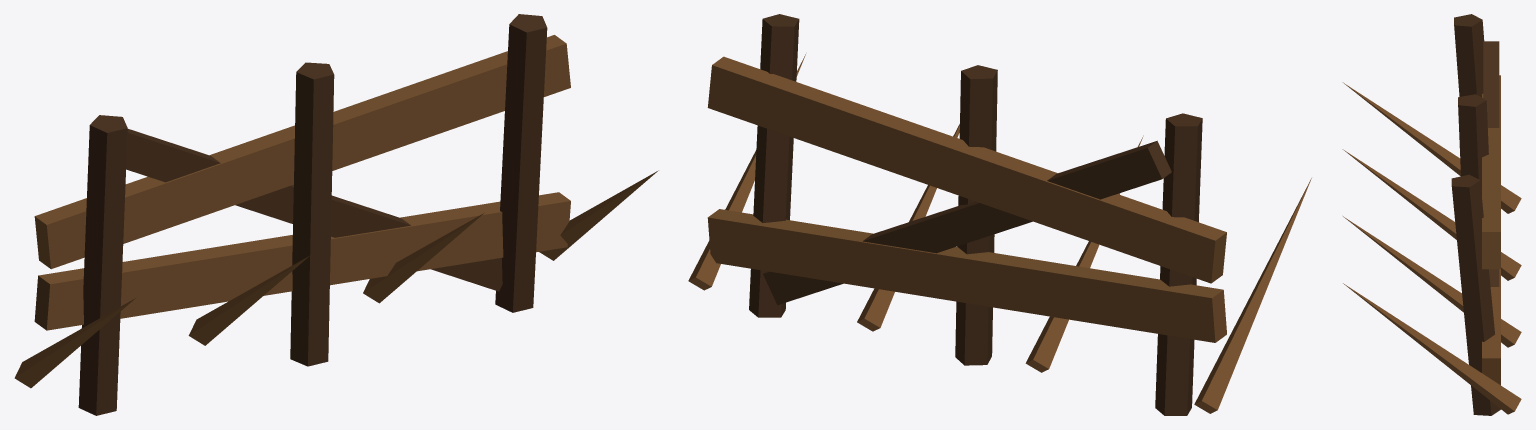
File: barricade.glb
3 views of the same model, side by side, from view 1: azimuth 30°, elevation 25°; view 2: azimuth 150°, elevation 25°; view 3: azimuth 270°, elevation 25° (orthographic). The views are drawn at different scales.
Parts seen in each view (by area): view 1: barricade; view 2: barricade; view 3: barricade.
Part boxes in pixels (box(x1,y1,x2,y2)): barricade: box(14, 14, 658, 415); barricade: box(688, 14, 1311, 415); barricade: box(1342, 14, 1521, 415).
Size of the model in its own units: 3.14 by 1.61 by 1.14.
Materials: 1 (1 with a texture image).
